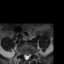CCS_normal: (25, 52, 27, 62)
LFS_normal: (30, 50, 32, 57)
LLS_normal: (27, 51, 30, 60)
RFS_normal: (21, 50, 23, 57)
RLS_normal: (23, 51, 25, 60)
